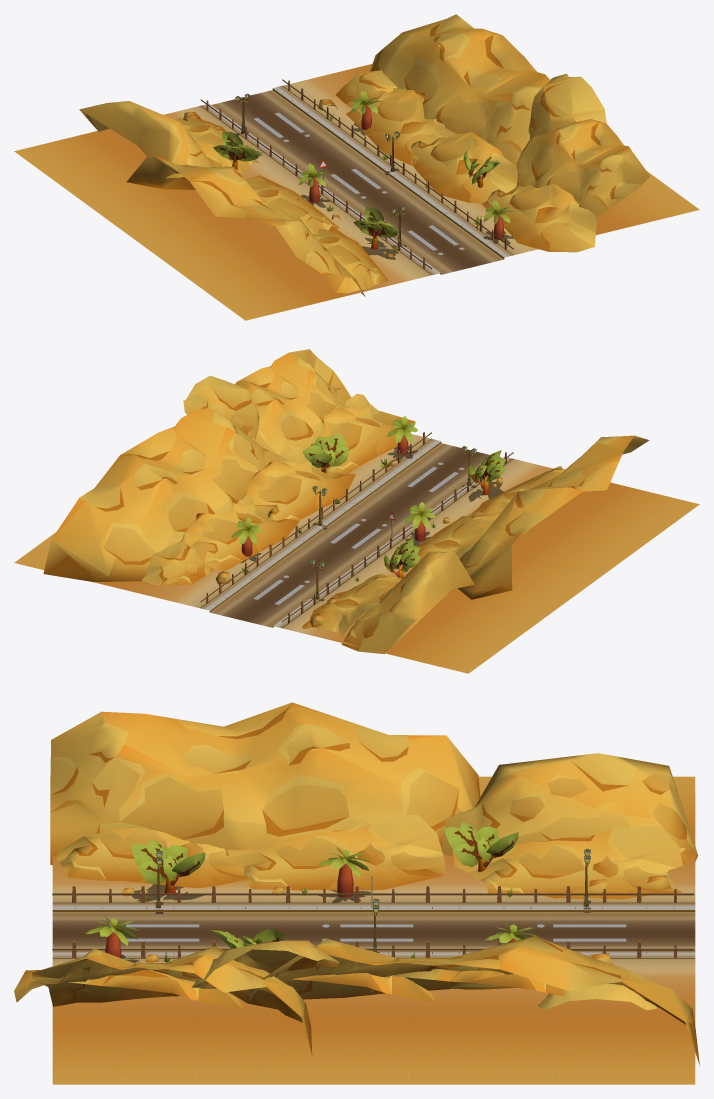
The model's file is Al kharj desert 2 chunk 1.fbx.
3 views of the same model, one above another, from view 1: azimuth 30°, elevation 25°; view 2: azimuth 150°, elevation 25°; view 3: azimuth 270°, elevation 25° (orthographic). The views are drawn at different scales.
Parts seen in each view (by area): view 1: Al_kharj_desert_2_chunk_1, Al_kharj_desert_2_chunk_1_shadow; view 2: Al_kharj_desert_2_chunk_1, Al_kharj_desert_2_chunk_1_shadow; view 3: Al_kharj_desert_2_chunk_1, Al_kharj_desert_2_chunk_1_shadow.
Boxes of the visible parts, left/top/right/bottom form: Al_kharj_desert_2_chunk_1: left=14, top=14, right=699, bottom=320; Al_kharj_desert_2_chunk_1_shadow: left=200, top=86, right=513, bottom=274; Al_kharj_desert_2_chunk_1: left=14, top=349, right=699, bottom=673; Al_kharj_desert_2_chunk_1_shadow: left=200, top=439, right=512, bottom=627; Al_kharj_desert_2_chunk_1: left=14, top=702, right=699, bottom=1084; Al_kharj_desert_2_chunk_1_shadow: left=53, top=884, right=694, bottom=962.
Bounding box in the file's own units: 3060 × 556 × 2882.
